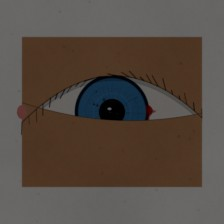hemorrhage_spot: (92, 83, 162, 139)
